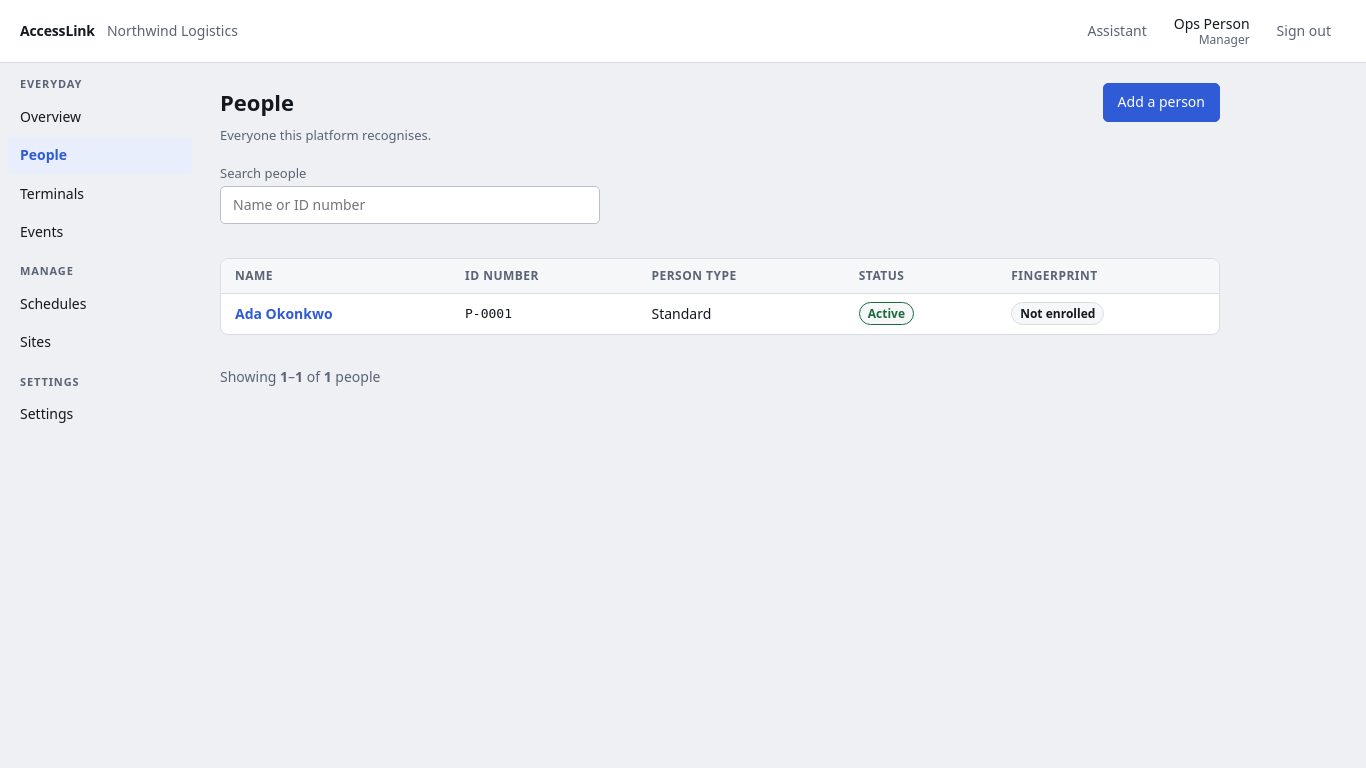
Test: a turn › shows the reply, the tools used, and refreshes what a write changed
Click the button "Assistant" at (1117, 31), box [1072, 12, 1162, 50]
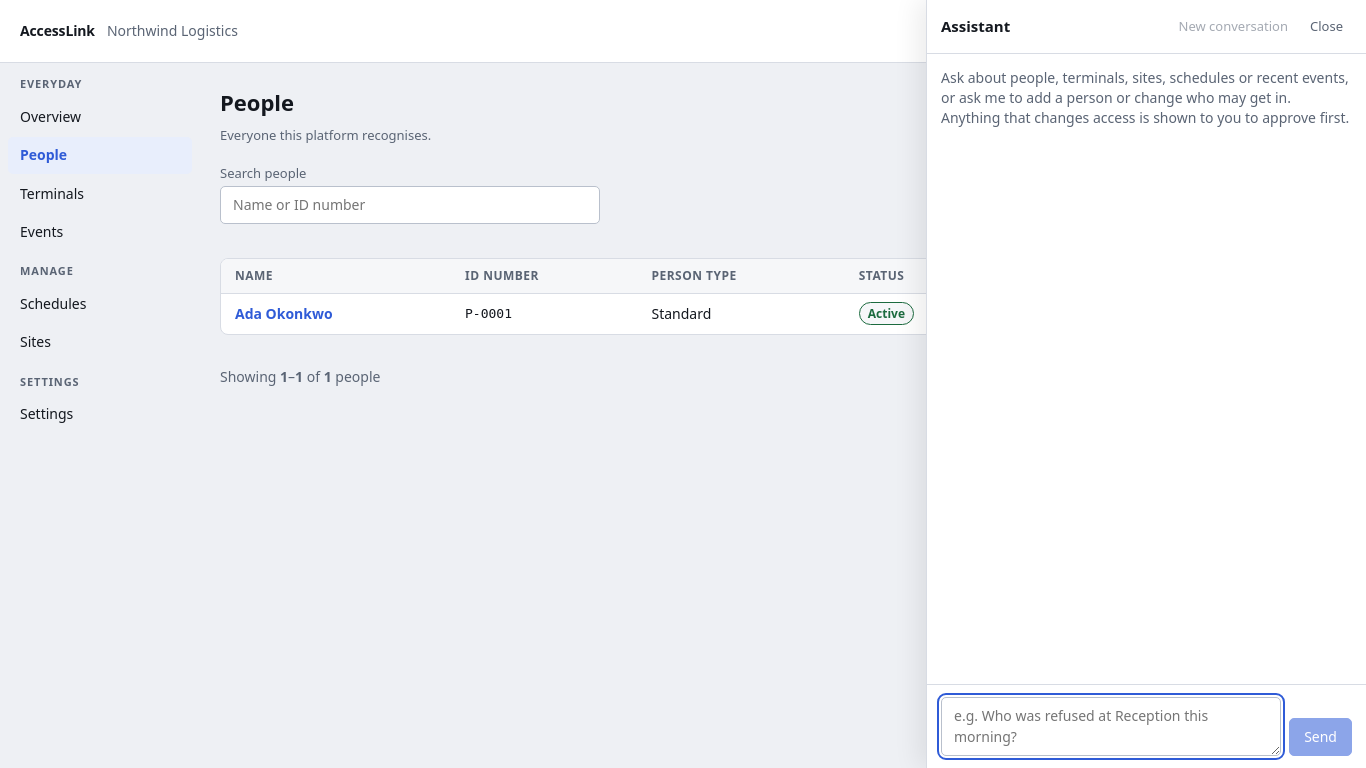
Type "find Ada" into the text box named "Message the assistant" at (1111, 727), box [941, 697, 1281, 756]
Then press Enter
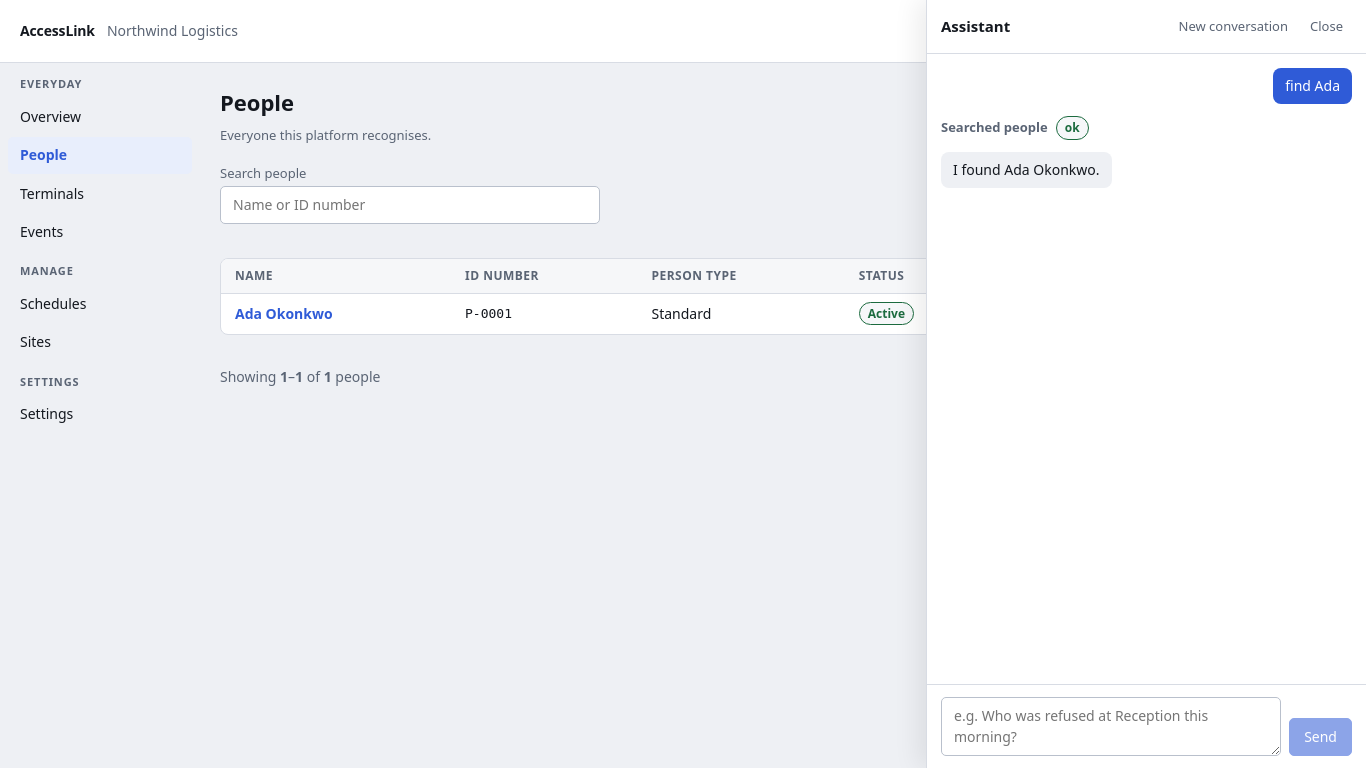
Result: the text "I found Ada Okonkwo." is shown at [941, 152, 1112, 188]
Result: the text "Searched people" is shown at [941, 118, 1048, 137]
Result: the text "find Ada" is shown at [1273, 68, 1352, 104]
